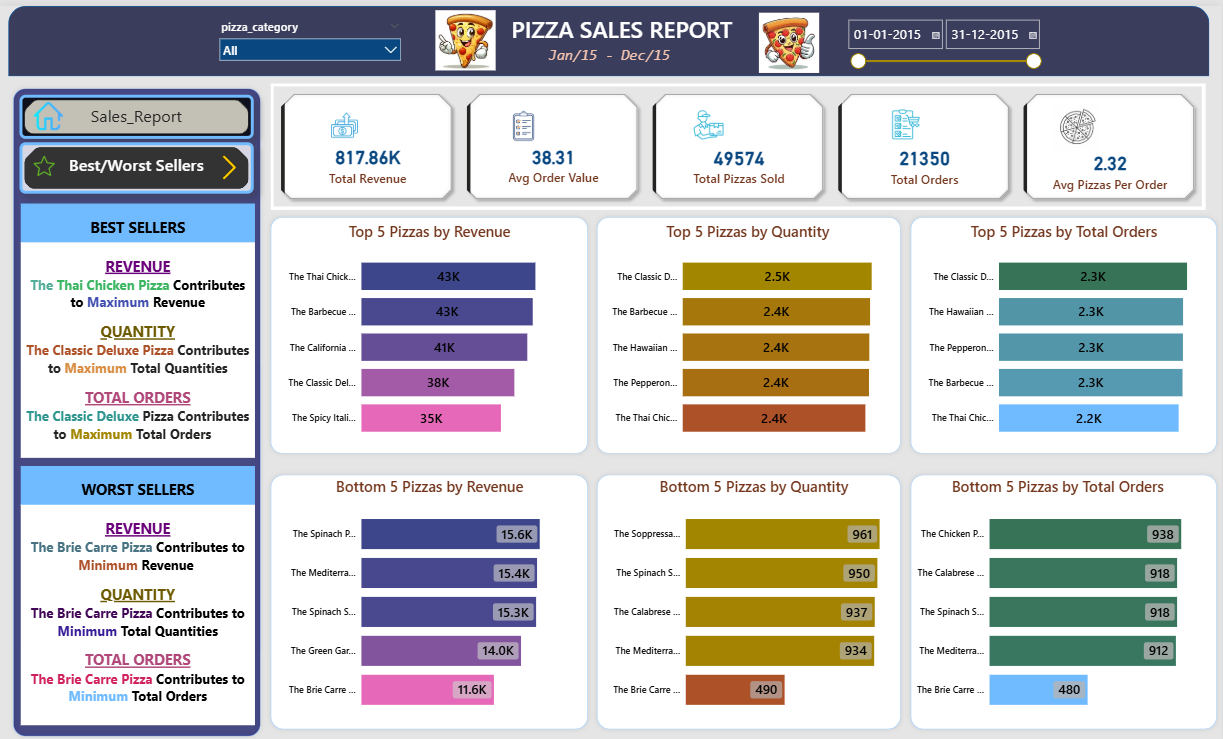

This screenshot's page, from the dashboard's own definition file:
{"tool":"powerbi","page":{"name":"Best/Worst Sellers","canvas":[2000,1200],"ordinal":1},"visuals":[{"type":"shape","box":[18,126,420,1074],"z":0},{"type":"cardVisual","fields":{"Data":["pizza pizza_sales.Total Revenue","pizza pizza_sales.Avg Order Value","pizza pizza_sales.Total Pizzas Sold","pizza pizza_sales.Total Orders","pizza pizza_sales.Avg Pizzas Per Order"]},"box":[446,126,1526,206],"z":1000},{"type":"shape","box":[18.5,0,1961.1,114.8],"z":2000},{"type":"textbox","box":[834,8,376,60],"z":3000},{"type":"textbox","box":[874,62,252,48],"z":4000},{"type":"image","box":[706,2,118,108],"z":5000},{"type":"image","box":[1236,6,112,108],"z":6000},{"type":"shape","box":[438,336,534,402],"z":7000},{"type":"textbox","box":[38,322,382,64],"z":8000},{"type":"textbox","box":[38,386,382,352],"z":9000},{"type":"textbox","box":[38,750,382,64],"z":10000},{"type":"textbox","box":[38,814,382,360],"z":11000},{"type":"slicer","fields":{"Values":["pizza pizza_sales.pizza_category"]},"box":[354,16,316,88],"z":12000},{"type":"slicer","fields":{"Values":["pizza pizza_sales.order_date"]},"box":[1378,12,336,94],"z":13000},{"type":"shape","box":[972,336,512,402],"z":14000},{"type":"shape","box":[1484,336,516,402],"z":15000},{"type":"shape","box":[438,758,534,432],"z":16000},{"type":"shape","box":[972,758,512,432],"z":17000},{"type":"shape","box":[1484,758,516,432],"z":18000},{"type":"barChart","title":"Top 5 Pizzas by Revenue ","fields":{"Category":["pizza pizza_sales.pizza_name"],"Y":["pizza pizza_sales.Total Revenue"]},"box":[460,350,494,374],"z":19000},{"type":"barChart","title":"Bottom 5 Pizzas by Revenue ","fields":{"Category":["pizza pizza_sales.pizza_name"],"Y":["pizza pizza_sales.Total Revenue"]},"box":[460,768,494,406],"z":20000},{"type":"barChart","title":"Top 5 Pizzas by Quantity","fields":{"Category":["pizza pizza_sales.pizza_name"],"Y":["pizza pizza_sales.Total Pizzas Sold"]},"box":[988,350,476,374],"z":21000},{"type":"barChart","title":"Bottom 5 Pizzas by Quantity","fields":{"Category":["pizza pizza_sales.pizza_name"],"Y":["pizza pizza_sales.Total Pizzas Sold"]},"box":[988,768,496,406],"z":22000},{"type":"barChart","title":"Top 5 Pizzas by Total Orders","fields":{"Category":["pizza pizza_sales.pizza_name"],"Y":["pizza pizza_sales.Total Orders"]},"box":[1504,350,476,374],"z":23000},{"type":"barChart","title":"Bottom 5 Pizzas by Total Orders","fields":{"Category":["pizza pizza_sales.pizza_name"],"Y":["pizza pizza_sales.Total Orders"]},"box":[1484,768,496,406],"z":24000},{"type":"pageNavigator","box":[36,144,382,72],"z":25000},{"type":"pageNavigator","box":[36,222,382,84],"z":26000},{"type":"image","box":[354,238,52,50],"z":27000},{"type":"image","box":[56,150,58,58],"z":28000},{"type":"image","box":[56,232,44,56],"z":29000}]}

Visuals, with their boxes in screenshot pixels (x1, y1, x2, y2), scaled from the page's 2000x1200 canvas onto the 1223x739 screenshot:
shape: {"left": 11, "top": 78, "right": 268, "bottom": 738}
cardVisual - pizza pizza_sales.Total Revenue x pizza pizza_sales.Avg Order Value: {"left": 273, "top": 78, "right": 1206, "bottom": 204}
shape: {"left": 11, "top": 0, "right": 1211, "bottom": 71}
textbox: {"left": 510, "top": 5, "right": 740, "bottom": 42}
textbox: {"left": 534, "top": 38, "right": 689, "bottom": 68}
image: {"left": 432, "top": 1, "right": 504, "bottom": 68}
image: {"left": 756, "top": 4, "right": 824, "bottom": 70}
shape: {"left": 268, "top": 207, "right": 594, "bottom": 454}
textbox: {"left": 23, "top": 198, "right": 257, "bottom": 238}
textbox: {"left": 23, "top": 238, "right": 257, "bottom": 454}
textbox: {"left": 23, "top": 462, "right": 257, "bottom": 501}
textbox: {"left": 23, "top": 501, "right": 257, "bottom": 723}
slicer - pizza pizza_sales.pizza_category: {"left": 216, "top": 10, "right": 410, "bottom": 64}
slicer - pizza pizza_sales.order_date: {"left": 843, "top": 7, "right": 1048, "bottom": 65}
shape: {"left": 594, "top": 207, "right": 907, "bottom": 454}
shape: {"left": 907, "top": 207, "right": 1222, "bottom": 454}
shape: {"left": 268, "top": 467, "right": 594, "bottom": 733}
shape: {"left": 594, "top": 467, "right": 907, "bottom": 733}
shape: {"left": 907, "top": 467, "right": 1222, "bottom": 733}
"Top 5 Pizzas by Revenue " barChart: {"left": 281, "top": 216, "right": 583, "bottom": 446}
"Bottom 5 Pizzas by Revenue " barChart: {"left": 281, "top": 473, "right": 583, "bottom": 723}
"Top 5 Pizzas by Quantity" barChart: {"left": 604, "top": 216, "right": 895, "bottom": 446}
"Bottom 5 Pizzas by Quantity" barChart: {"left": 604, "top": 473, "right": 907, "bottom": 723}
"Top 5 Pizzas by Total Orders" barChart: {"left": 920, "top": 216, "right": 1211, "bottom": 446}
"Bottom 5 Pizzas by Total Orders" barChart: {"left": 907, "top": 473, "right": 1211, "bottom": 723}
pageNavigator: {"left": 22, "top": 89, "right": 256, "bottom": 133}
pageNavigator: {"left": 22, "top": 137, "right": 256, "bottom": 188}
image: {"left": 216, "top": 147, "right": 248, "bottom": 177}
image: {"left": 34, "top": 92, "right": 70, "bottom": 128}
image: {"left": 34, "top": 143, "right": 61, "bottom": 177}
